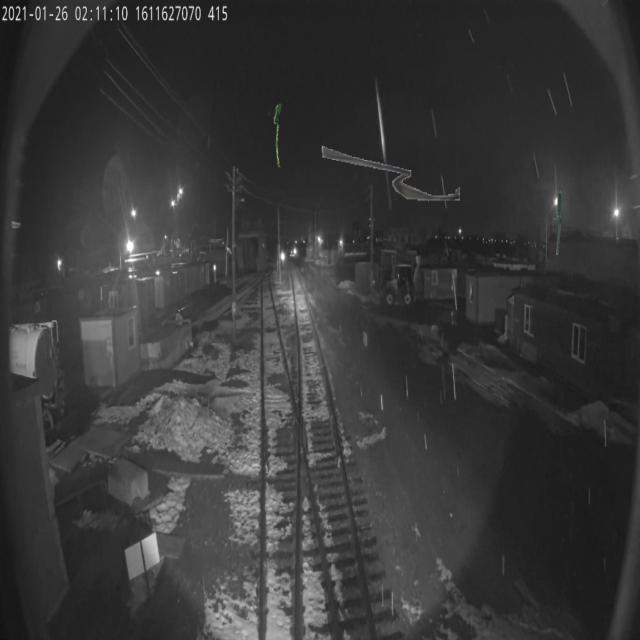floating object: (321, 142, 460, 206), (274, 103, 282, 167), (556, 191, 562, 255)
